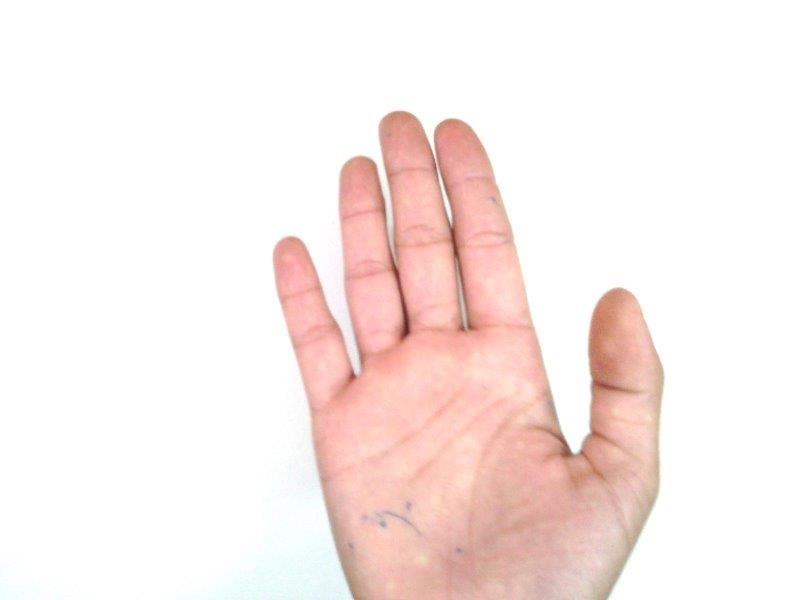hand: (273, 110, 665, 597)
